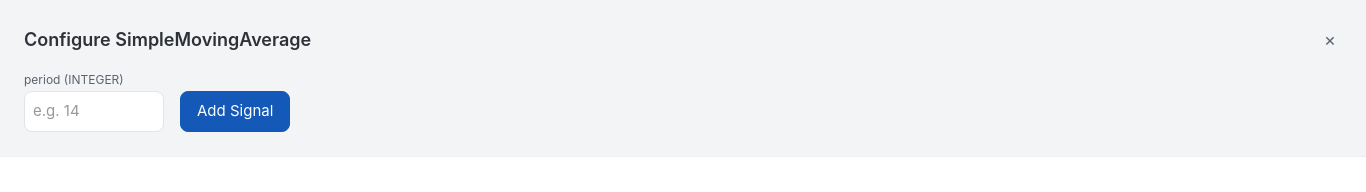
Scenario: SignalConfigPanel › shows error for empty required fields
# Don't fill in any value, just submit
Click the button "Add Signal" at [235, 111], box top-left (180, 91), bottom-right (290, 132)
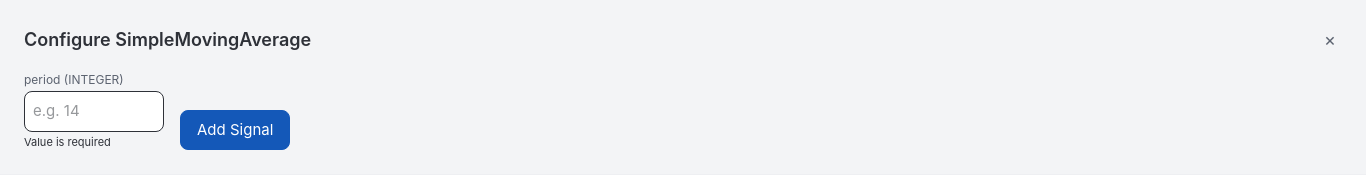
Result: the message reads "Value is required" at top-left (24, 134), bottom-right (111, 148)
